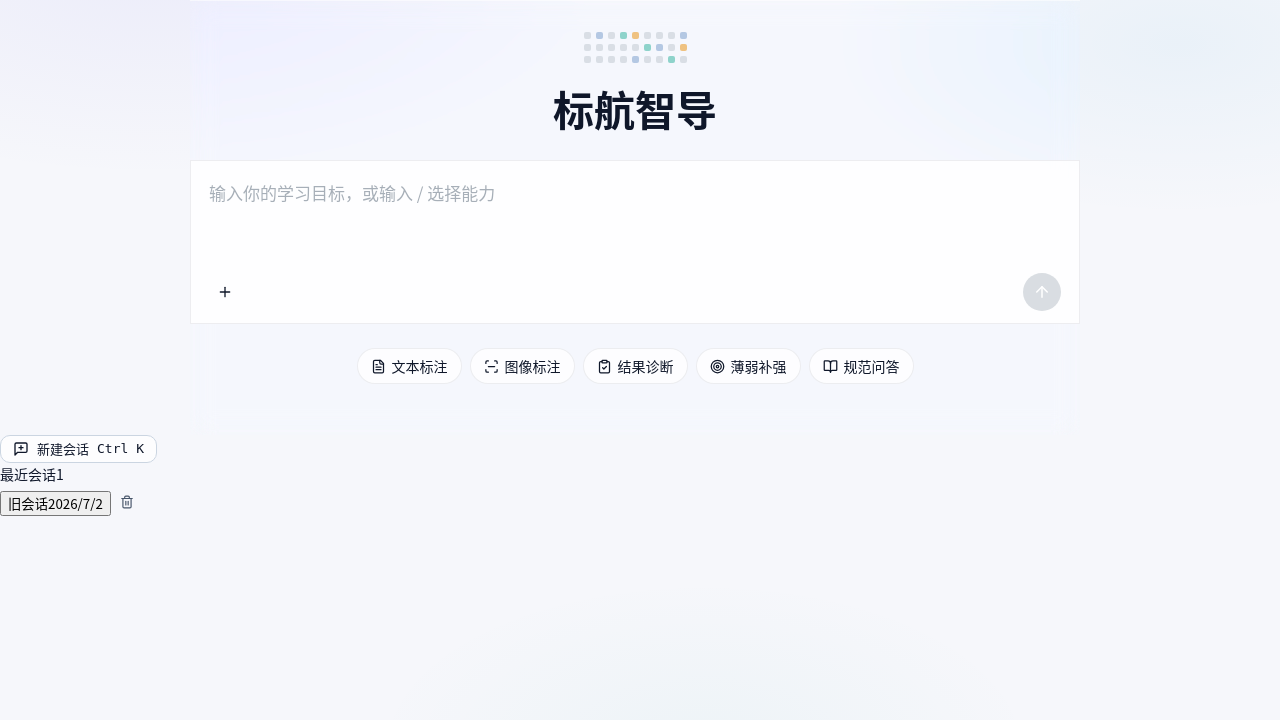
任务草稿 · 生成 → 预览 → 同步/修改 › 历史会话回放：task_drafts_by_run 让旧回答下方复原按钮与已同步态
Click the text "旧会话" at (28, 503), box top-left (8, 494), bottom-right (48, 513)
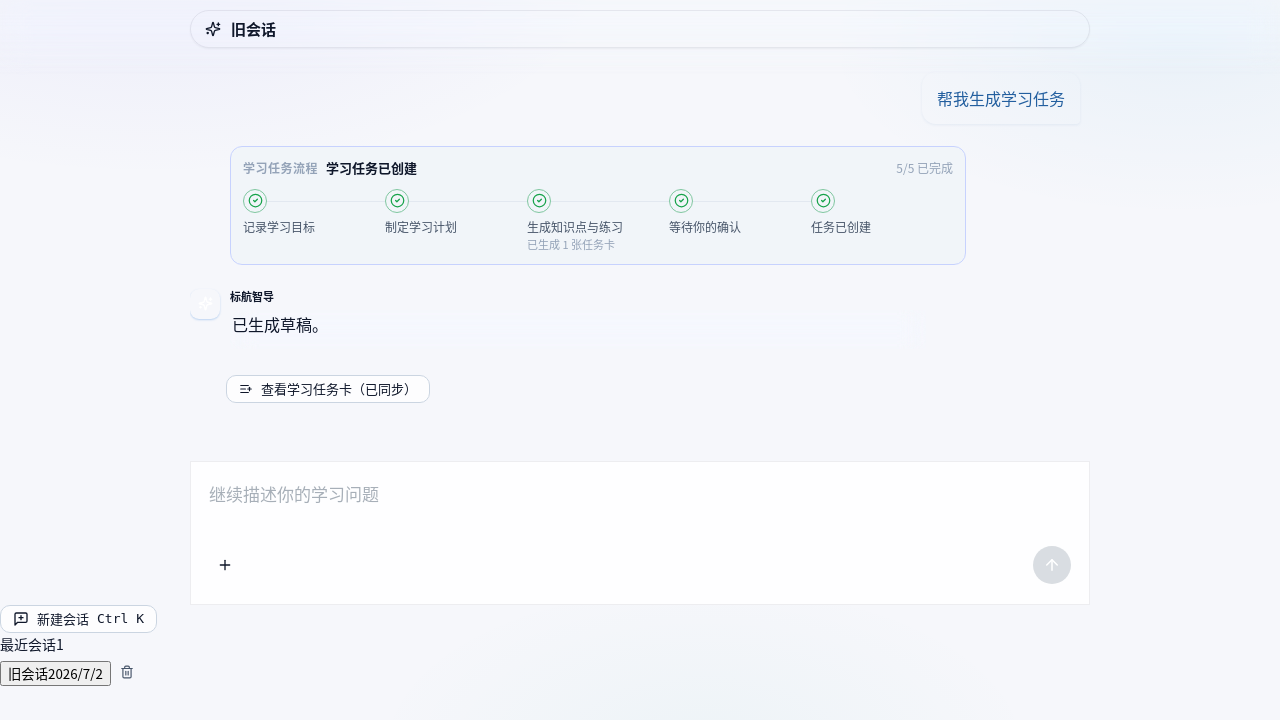
Expected: the button with test id "task-draft-open" shows "已同步"
Click the button with test id "task-draft-open" at (328, 389), box top-left (226, 375), bottom-right (430, 403)
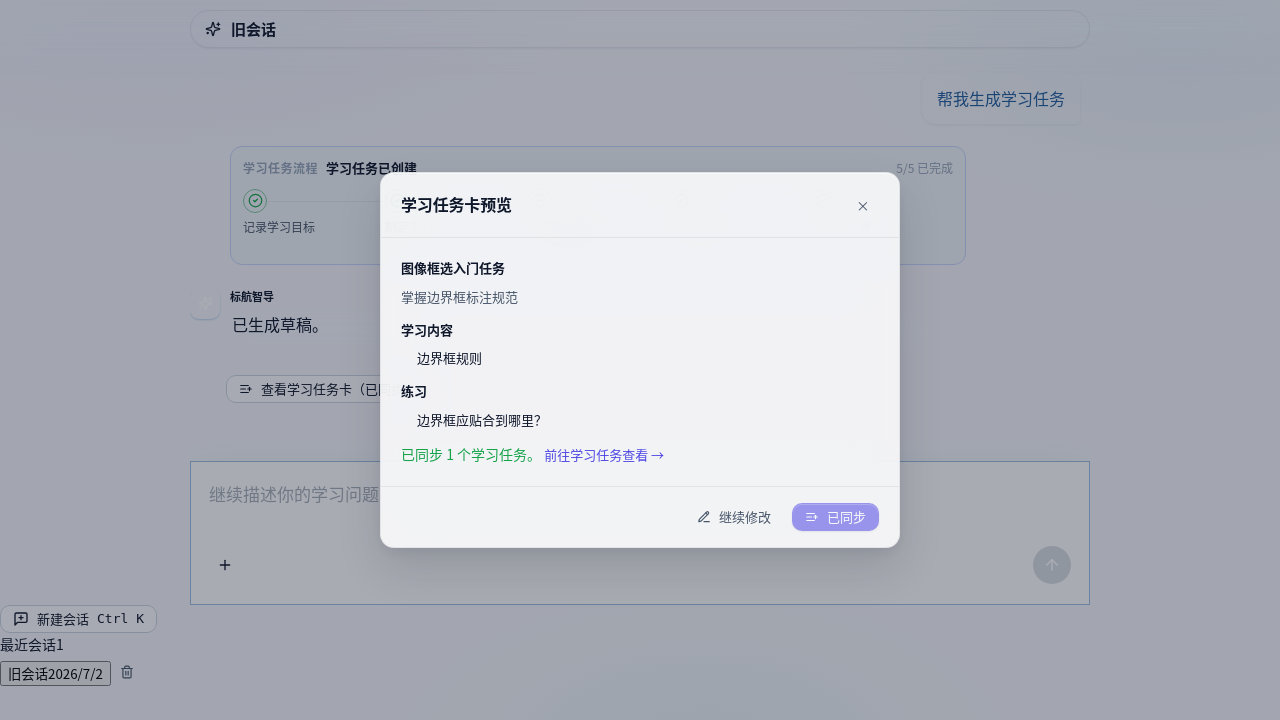
Expected: the text "学习任务卡预览" is shown, top-left (401, 192), bottom-right (512, 218)
Expected: the button with test id "task-draft-sync" is disabled, top-left (792, 503), bottom-right (879, 531)
